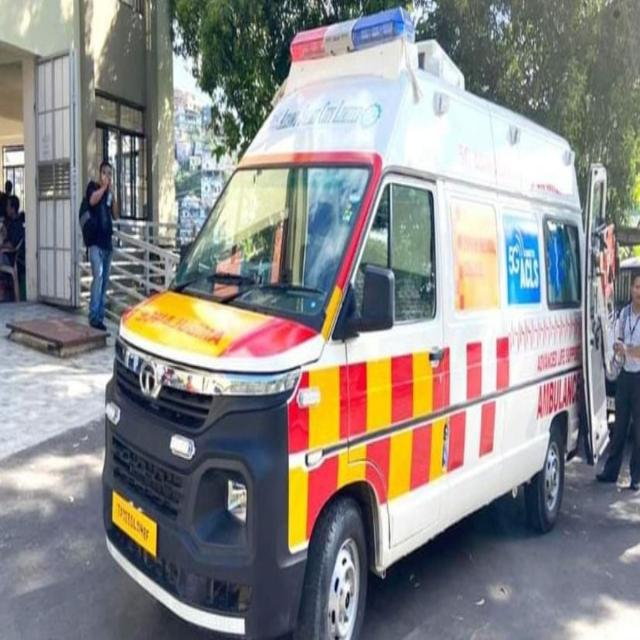emergency: (102, 9, 615, 638)
